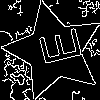E: (29, 26, 83, 70)
